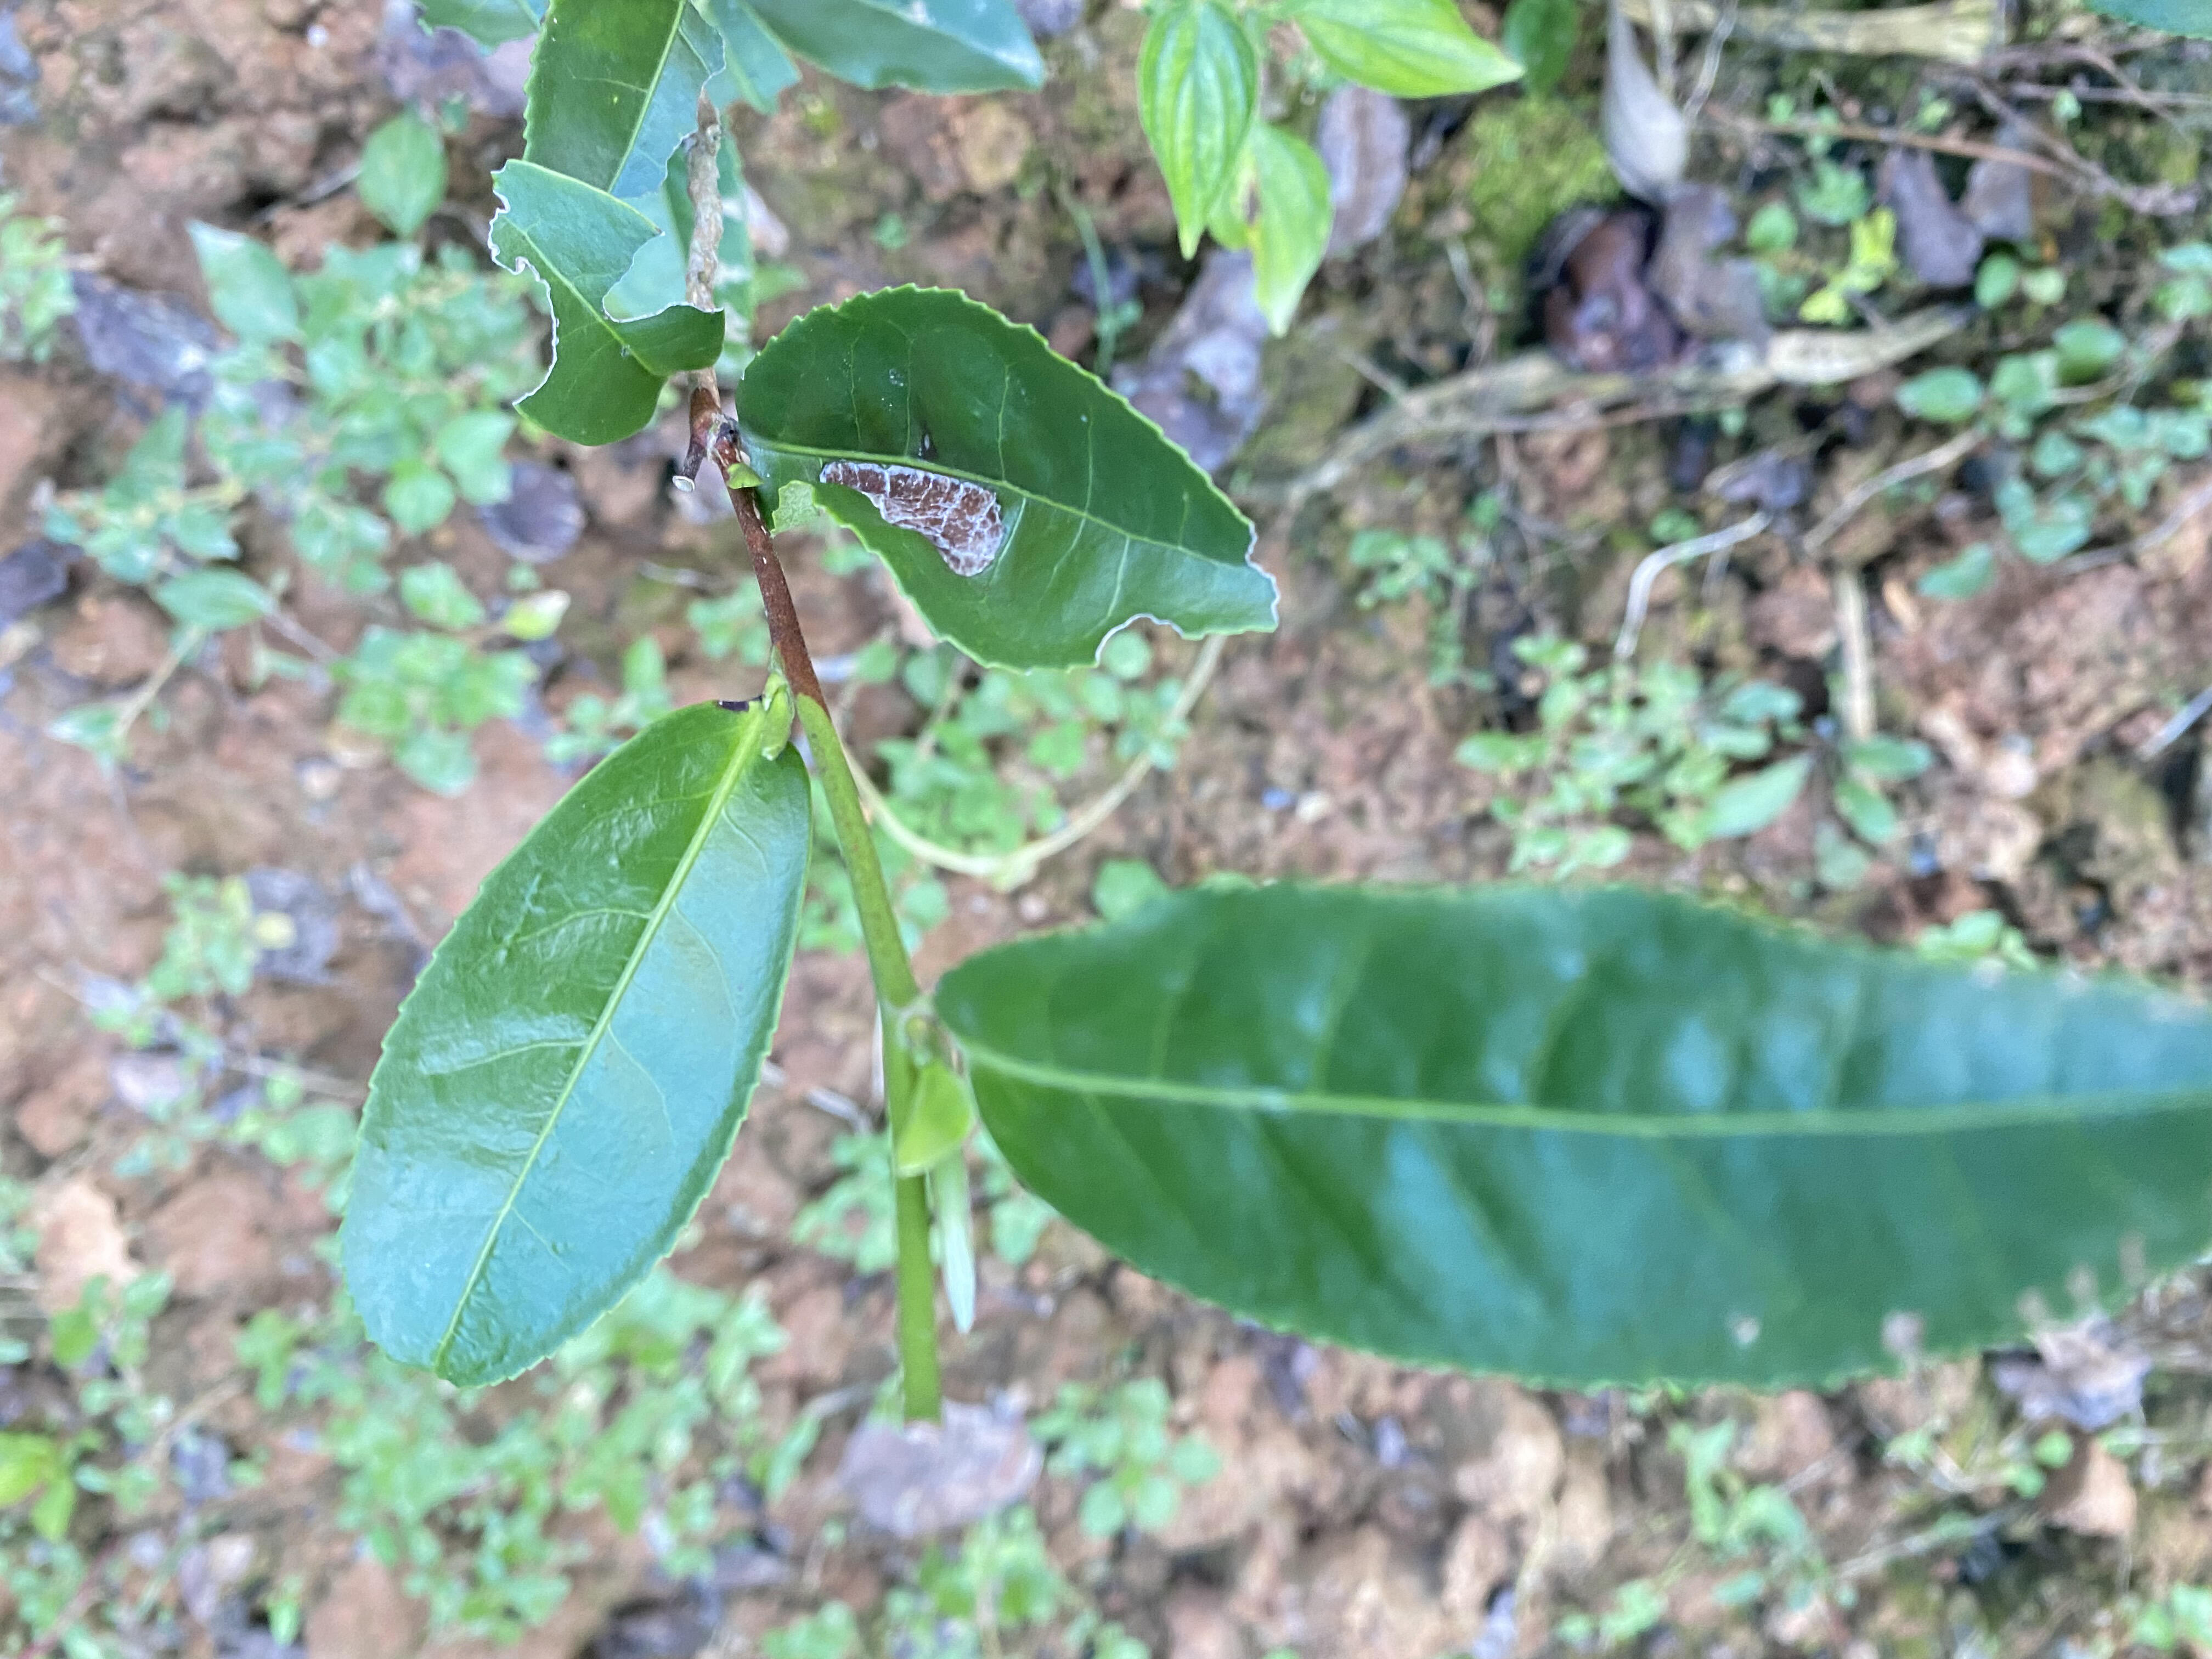chihuo_high: (482, 159, 723, 448)
healthy: (334, 702, 815, 1392)
tanju_high: (737, 282, 1277, 678)
tanju_low: (932, 875, 2210, 1398)
